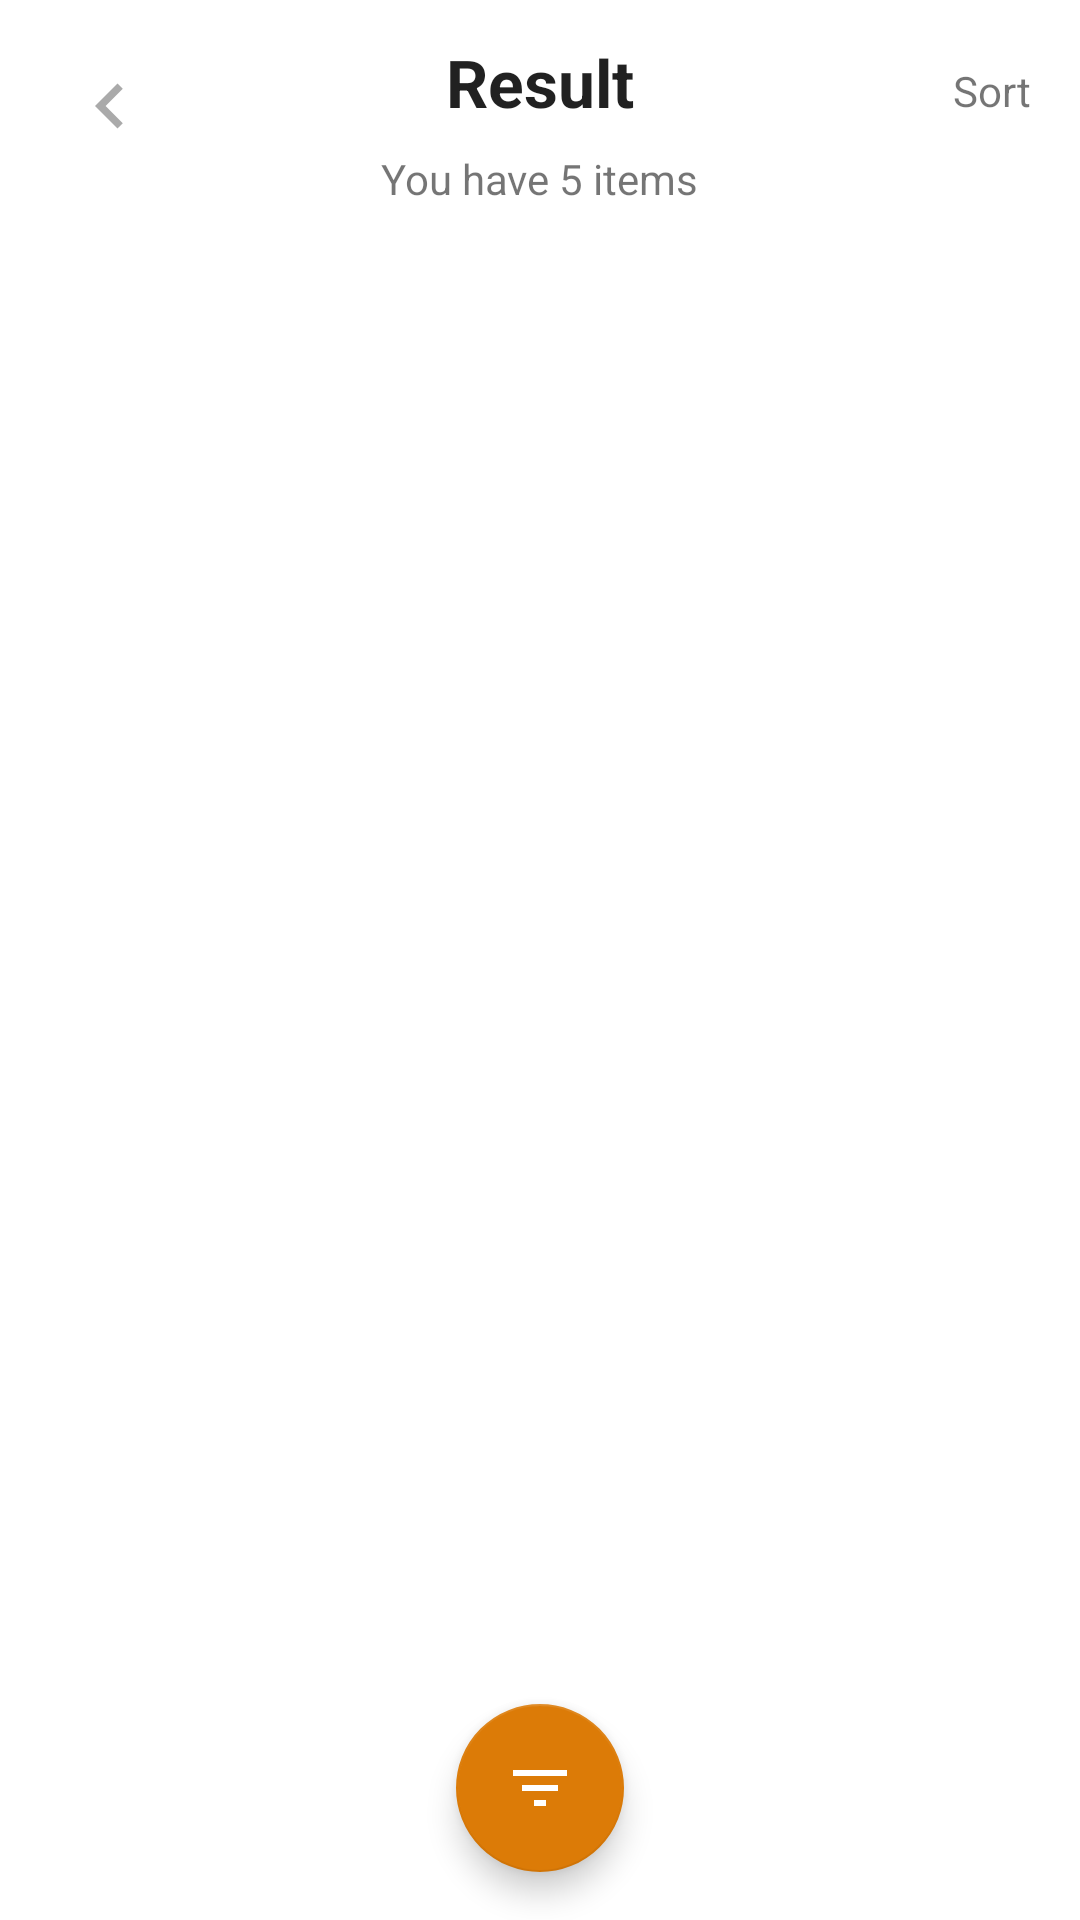

Icons on this 1080×1920 Android screen, each with the point to tap as point (x, y):
chevron left: point (109, 106)
filter list: point (540, 1788)
